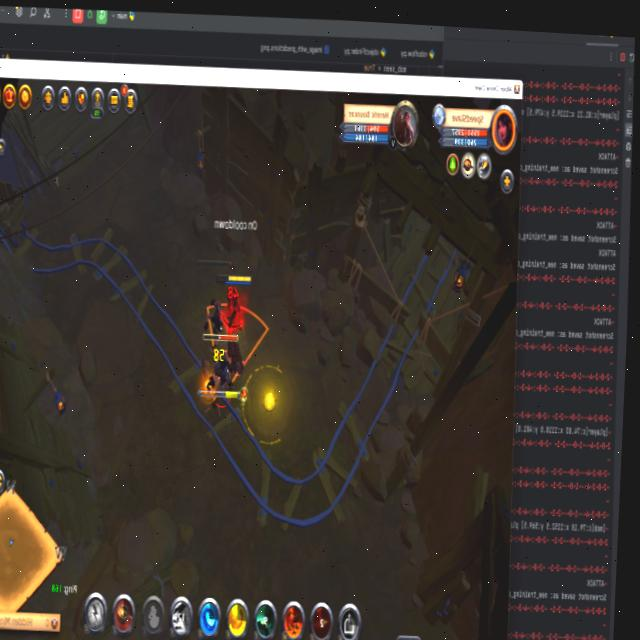ore: (198, 323, 246, 415), (192, 257, 236, 345)
red: (219, 269, 253, 331)
silver: (206, 299, 271, 379)
